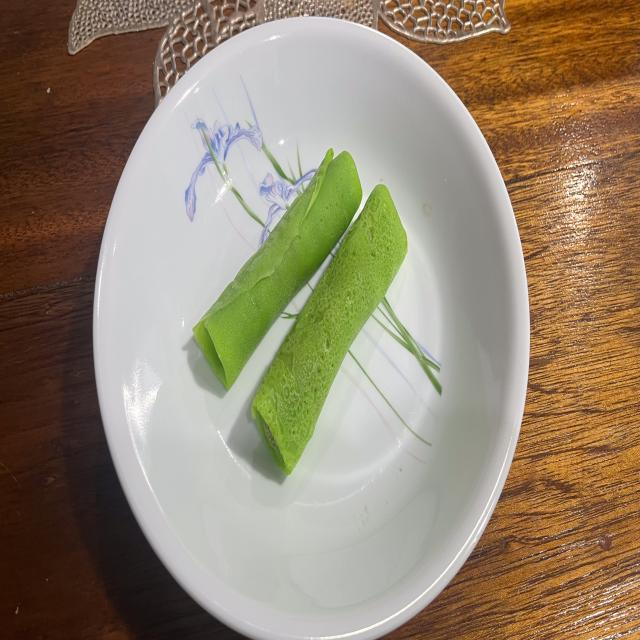Kuih-Ketayap: (252, 184, 408, 473), (194, 149, 362, 389)
